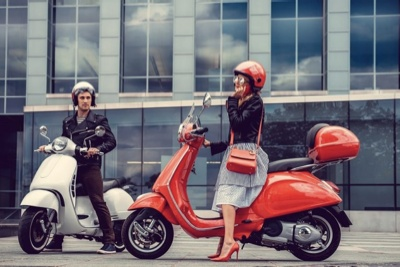helmet: (231, 60, 269, 99), (68, 81, 99, 113)
